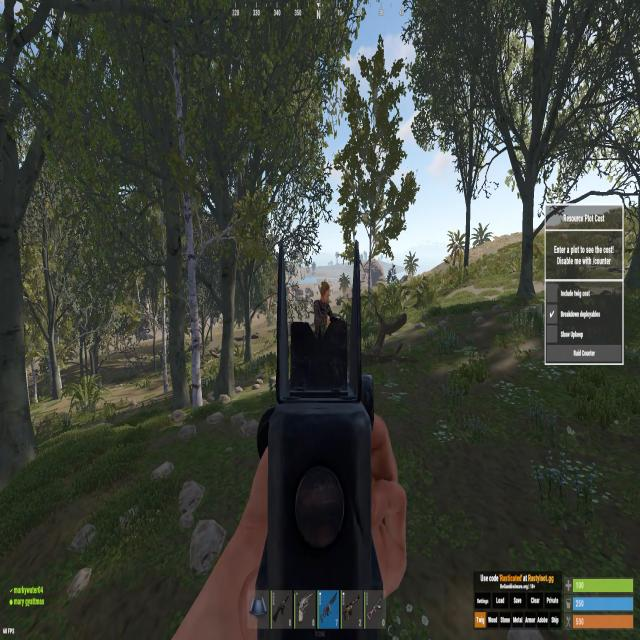Player: (313, 281, 333, 322)
